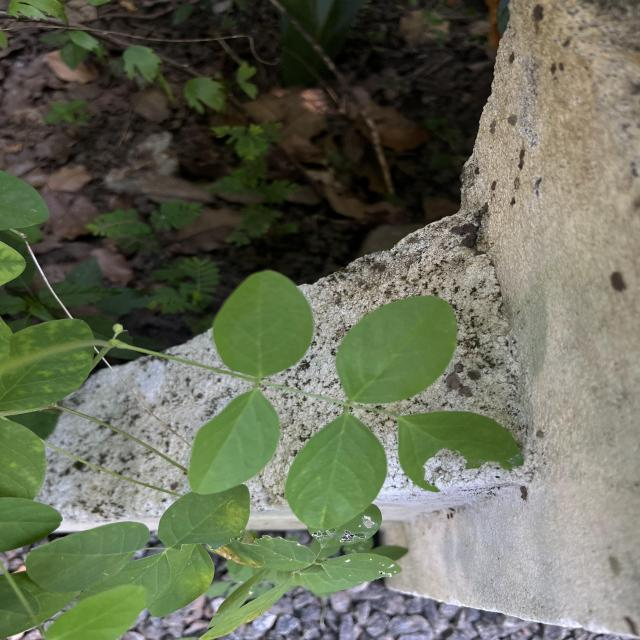Clitoria ternatea: (334, 294, 460, 406), (284, 410, 388, 532), (208, 270, 316, 380), (188, 388, 282, 496)
